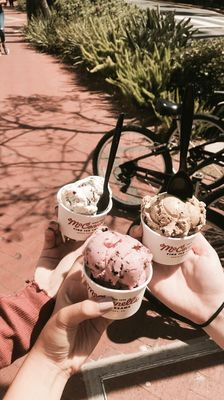sushi: (139, 191, 207, 266)
